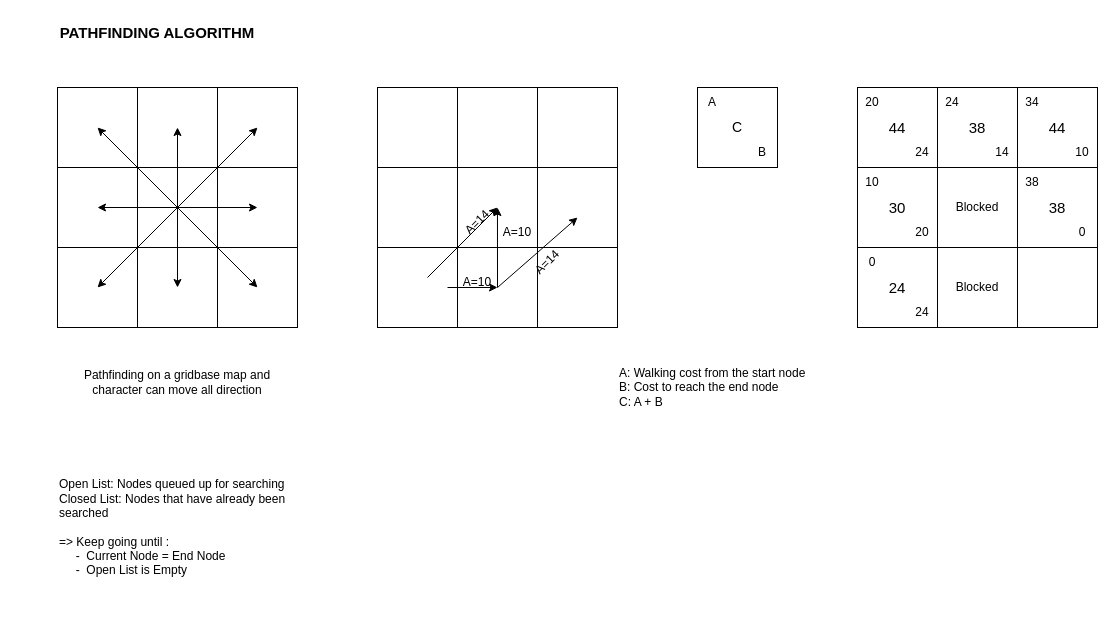
This 1115x624 diagram has some shape labels left out. The shapes that lost their labels are listed below. From the top down, each one's centre as x and y in pixels, then its label:
the point at 577,207: Destination
the point at 417,287: Player
